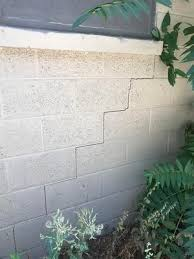stairstep_crack: (9, 54, 156, 255)
